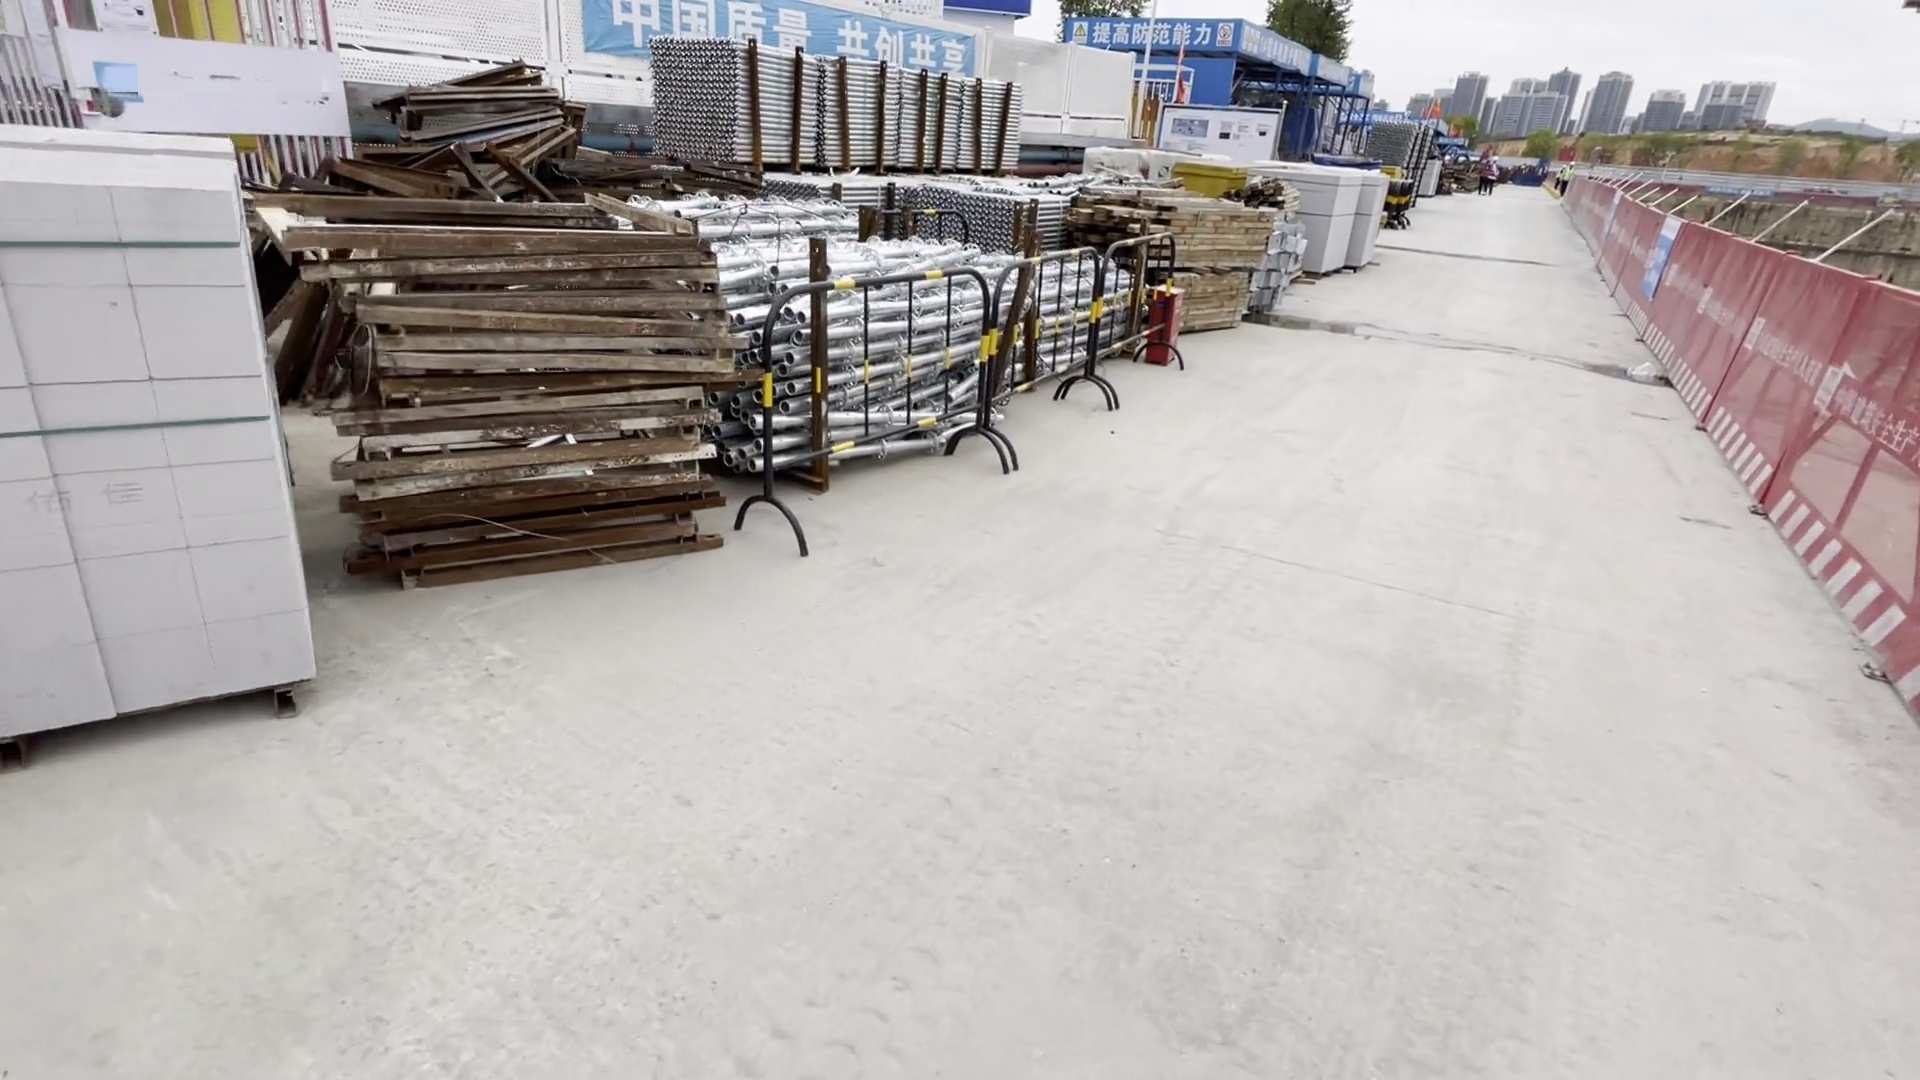brick: (1, 125, 309, 764), (1265, 167, 1400, 262)
fence: (1560, 166, 1920, 709)
scaffold: (646, 30, 1013, 177), (708, 208, 978, 344), (855, 177, 1075, 258)
slogan: (570, 1, 988, 88), (1062, 15, 1240, 55)
wood: (1084, 189, 1251, 328)
